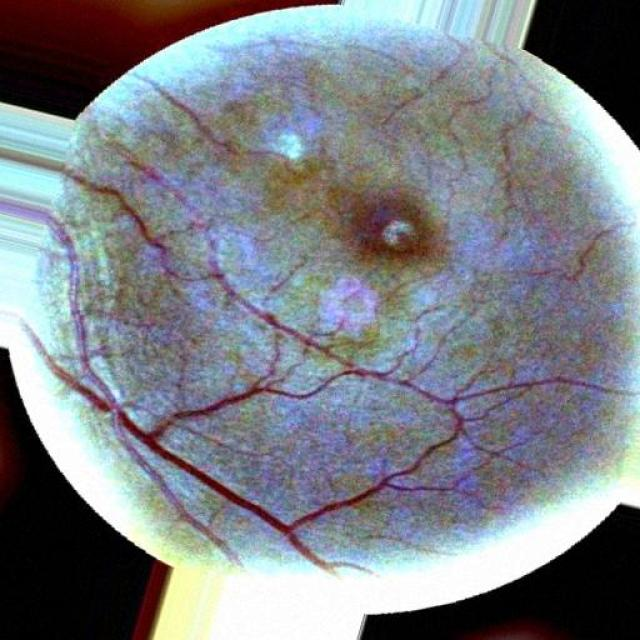Macula: (362, 202, 434, 257)
Nerves: (31, 218, 464, 570), (61, 164, 185, 278), (206, 255, 339, 361), (145, 80, 226, 149), (289, 361, 398, 399), (120, 145, 186, 204)
